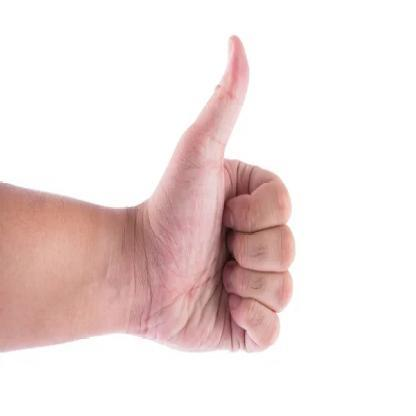thumb_up: (131, 28, 296, 367)
